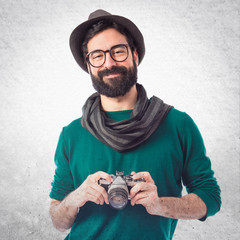young: (62, 8, 158, 99)
